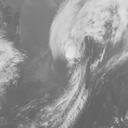cyclone: (48, 8, 118, 69)
